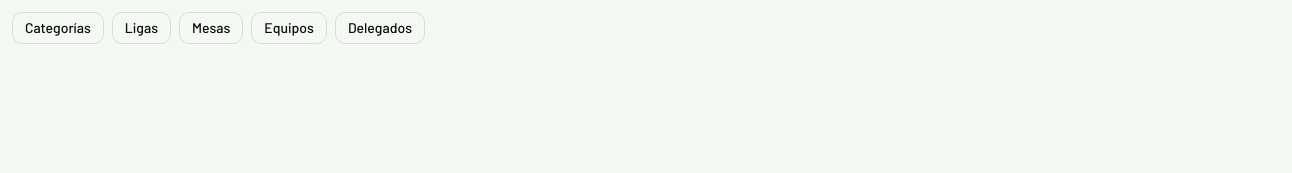
Test: ActividadCliente (plataforma, solo lectura) › equipos: club, liga, delegado y retirados, sin teléfonos ni PIN
Click the button "Equipos".
click(289, 28)  # box [251,12,327,44]
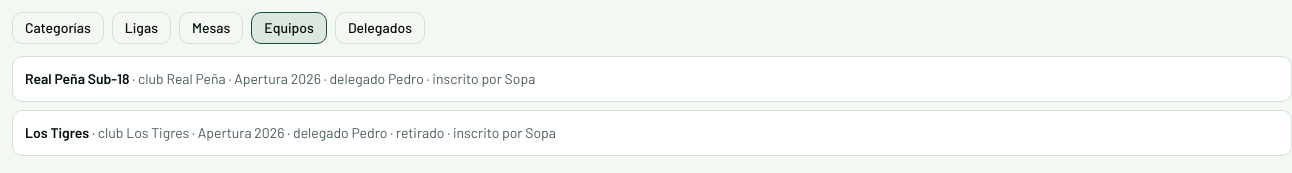
expect the list named "Equipos del cliente" shows "Real Peña Sub-18": met, box [25,70,129,87]
expect the list named "Equipos del cliente" shows "club Real Peña": met, box [12,56,1291,156]
expect the list named "Equipos del cliente" shows "delegado Pedro": met, box [12,56,1291,156]
